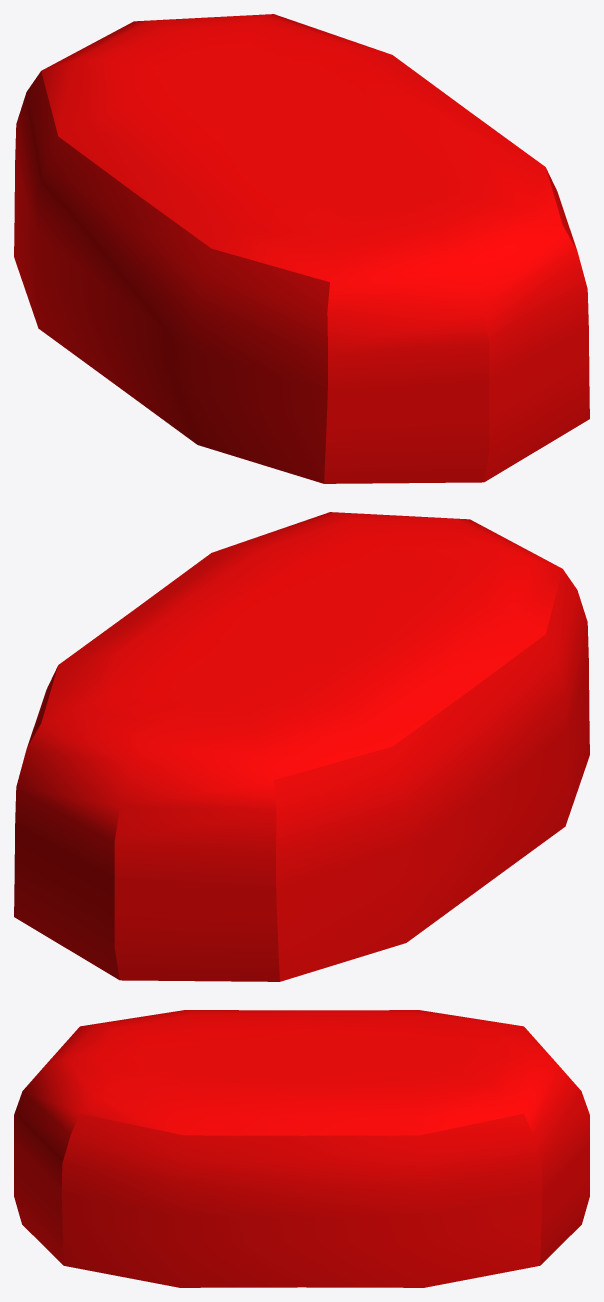
File: mouse.fbx
3 renders of one model, top to bottom at view 1: azimuth 30°, elevation 25°; view 2: azimuth 150°, elevation 25°; view 3: azimuth 270°, elevation 25°, orthographic. The views are drawn at different scales.
Visible parts, largest first — view 1: mouse; view 2: mouse; view 3: mouse.
Boxes of the visible parts, box(x1,y1,x2,y2) form: mouse: box(14, 14, 589, 483); mouse: box(14, 512, 589, 981); mouse: box(14, 1010, 589, 1287).
Bounding box in the file's own units: 39 × 22 × 68.
